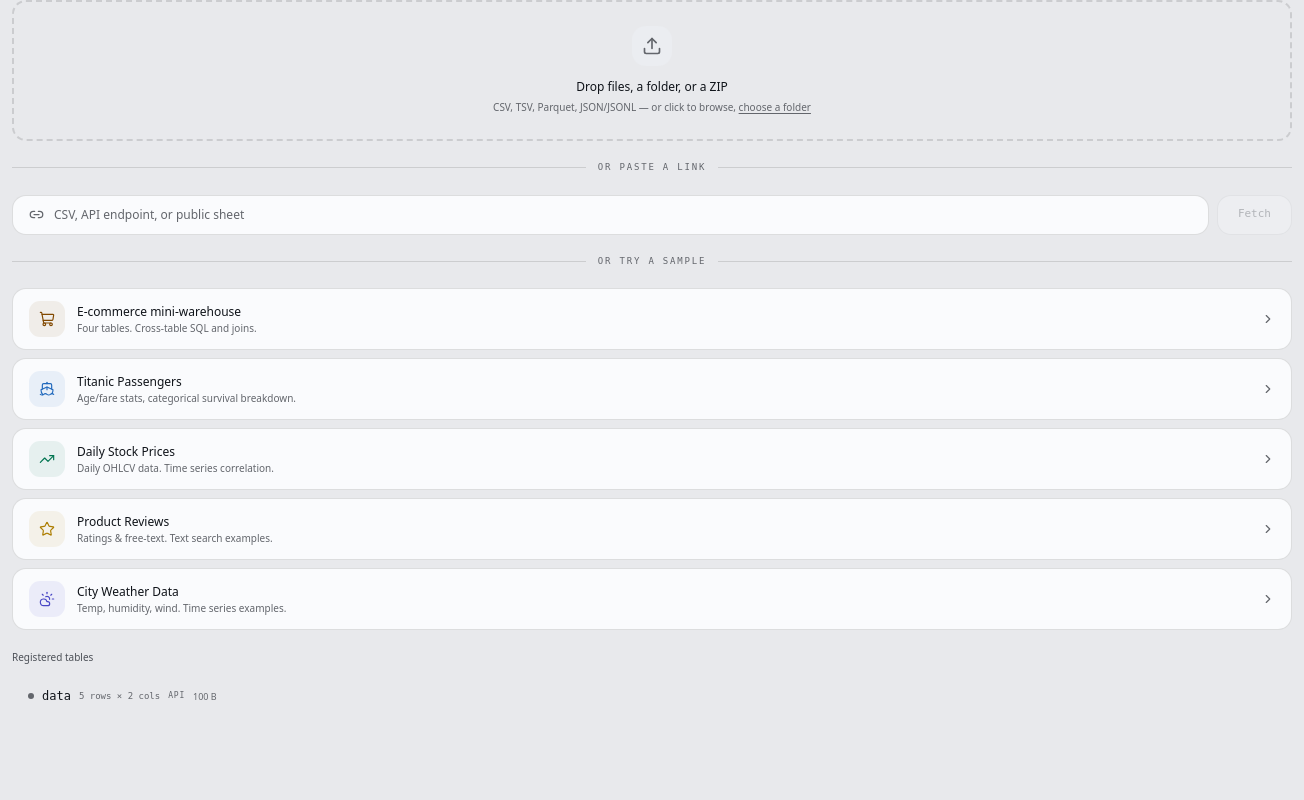
IngestionPanel › shows the relay disclosure note when Tier 2 carried the fetch (build/07-connectivity/02)
Type "https://blocked.example.com/data" into the field named "API URL" at [623, 214], box [54,206,1192,224]
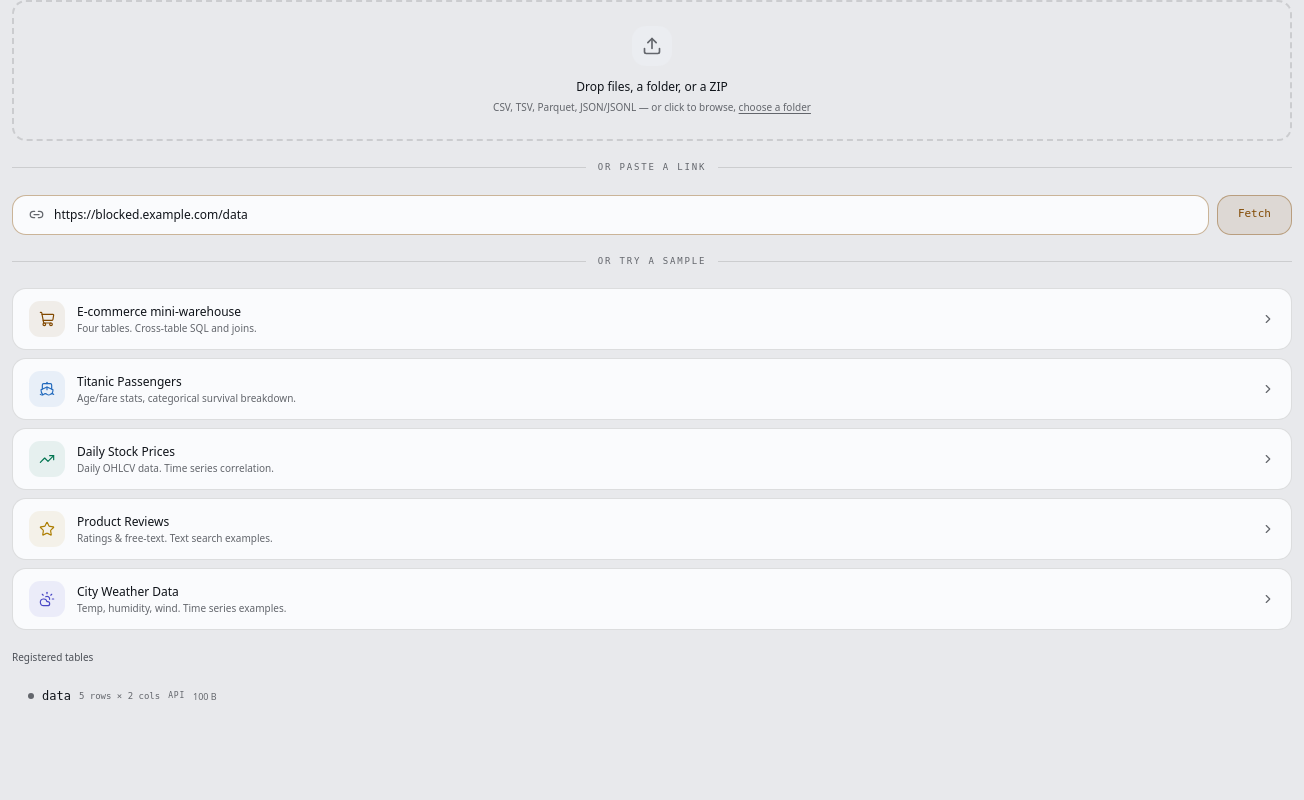
Click the button "Fetch" at [1254, 214], box [1217,194,1292,234]
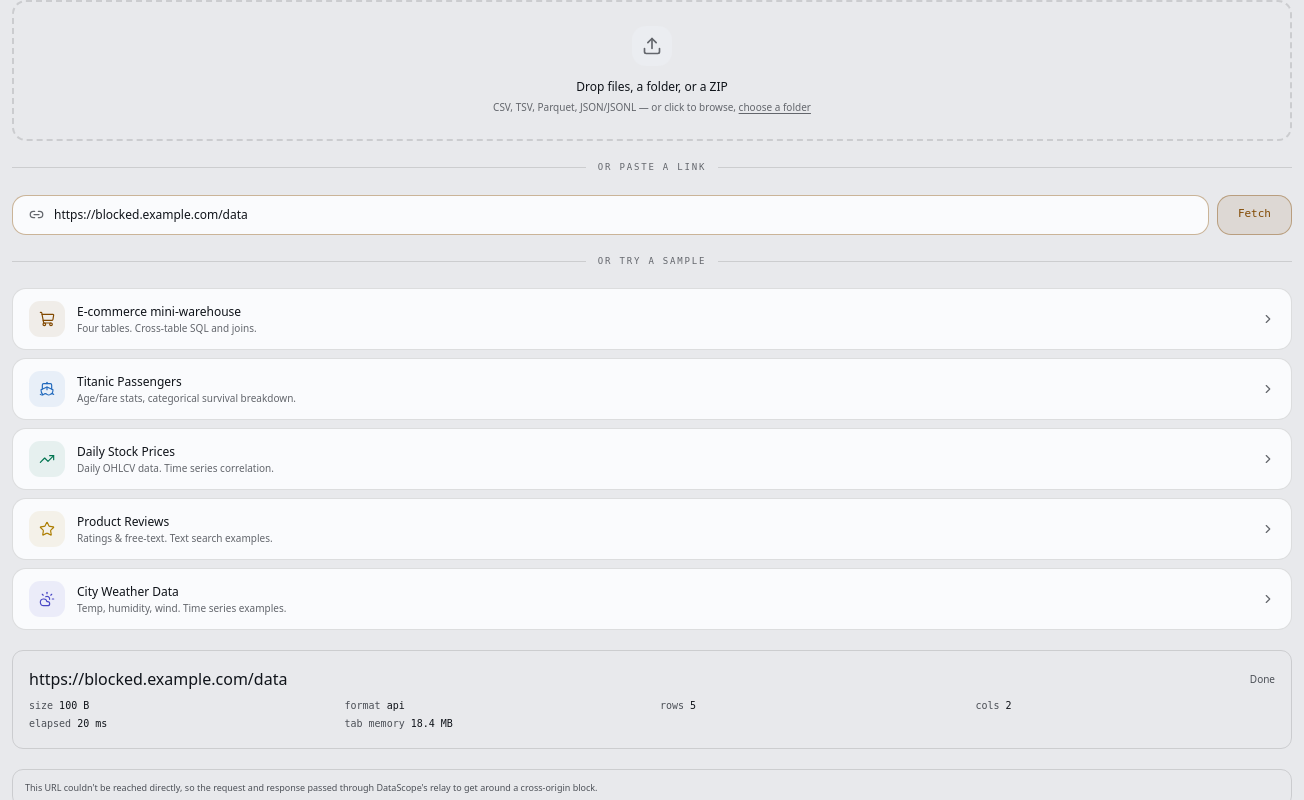
Result: the text "passed through DataScope's relay" is shown at [25,781,598,794]
